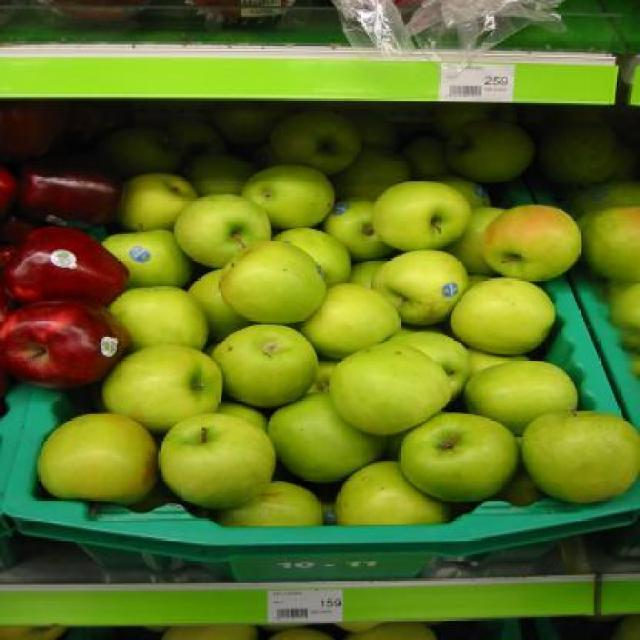Apple pie: (0, 101, 638, 526), (156, 407, 290, 513), (0, 620, 445, 640), (36, 0, 150, 28), (183, 0, 291, 23)
